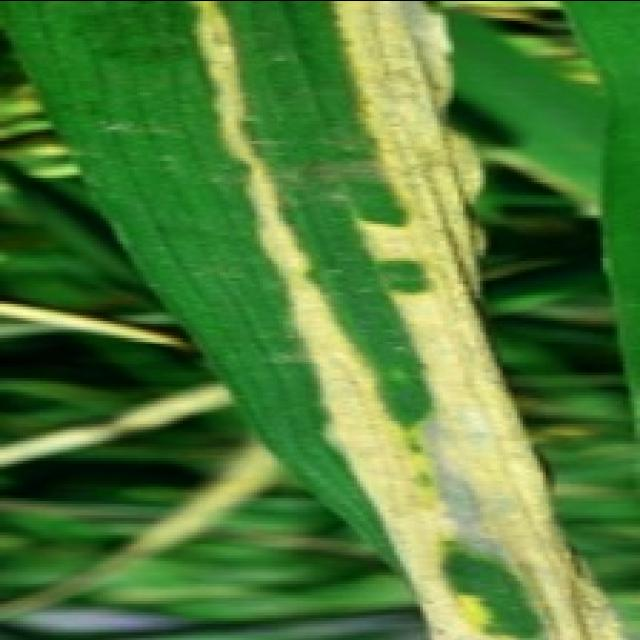Unhealthy: (183, 0, 631, 640), (0, 432, 291, 618), (0, 379, 240, 468), (0, 295, 195, 347)
